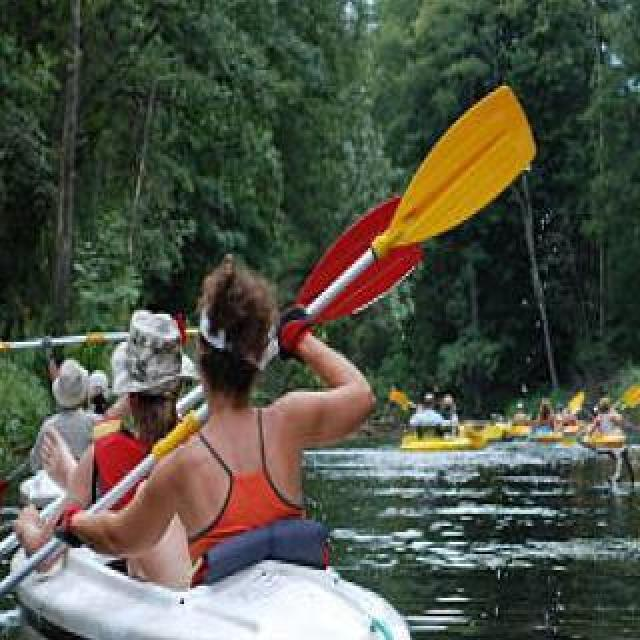kayak: (17, 551, 410, 640)
